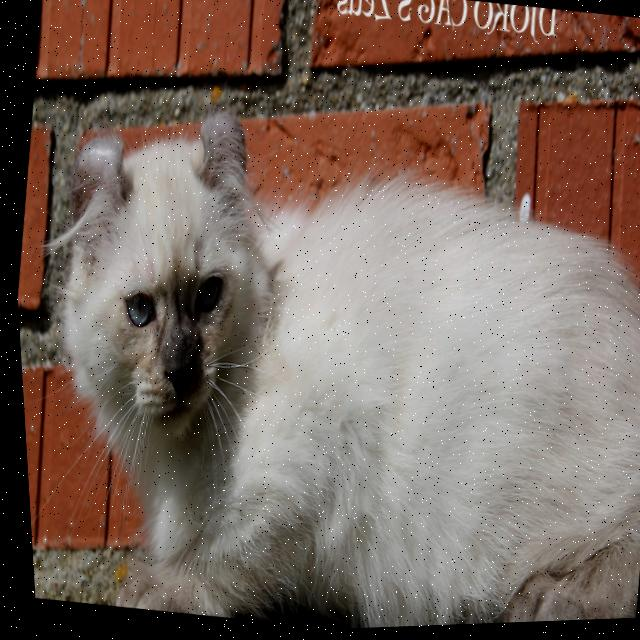American Curl: (4, 70, 640, 640)
